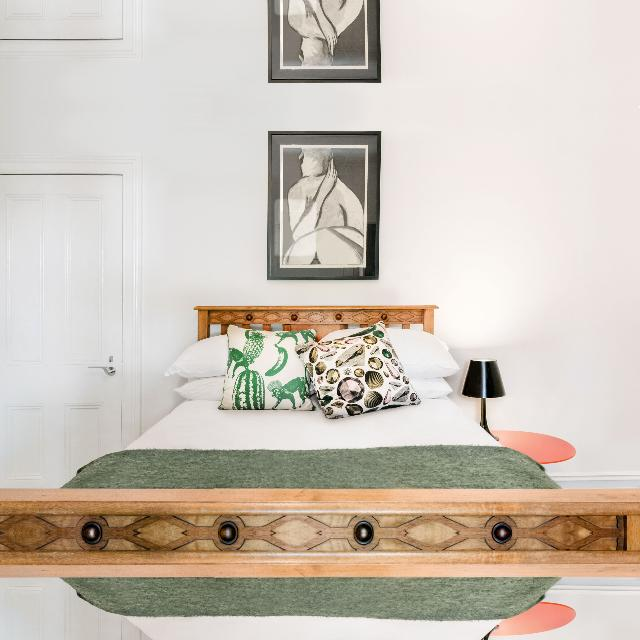lamp: (460, 356, 507, 442)
pillow: (294, 320, 420, 418), (218, 322, 315, 411), (388, 325, 462, 380), (159, 335, 222, 380)
